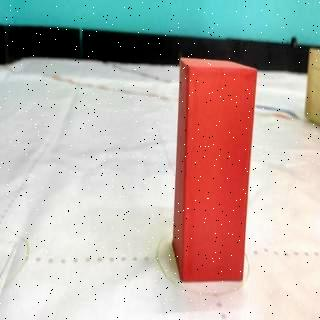redbox: (172, 58, 258, 280)
